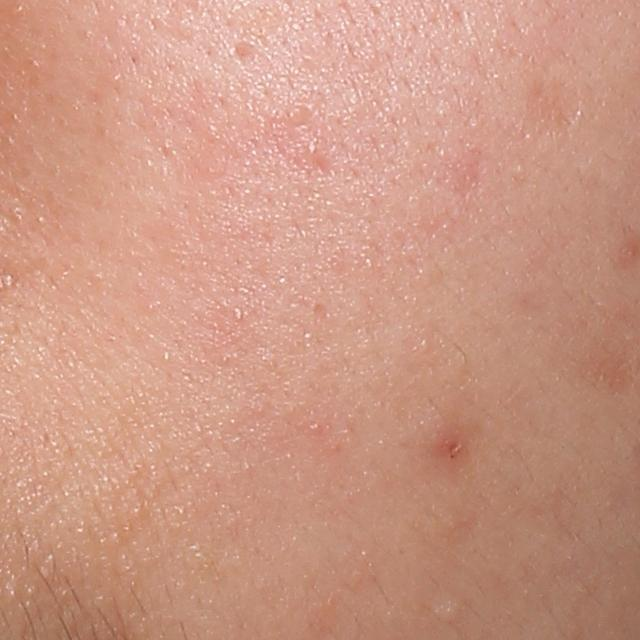atrophic_scar: (231, 41, 270, 74)
comedo: (282, 102, 308, 126)
